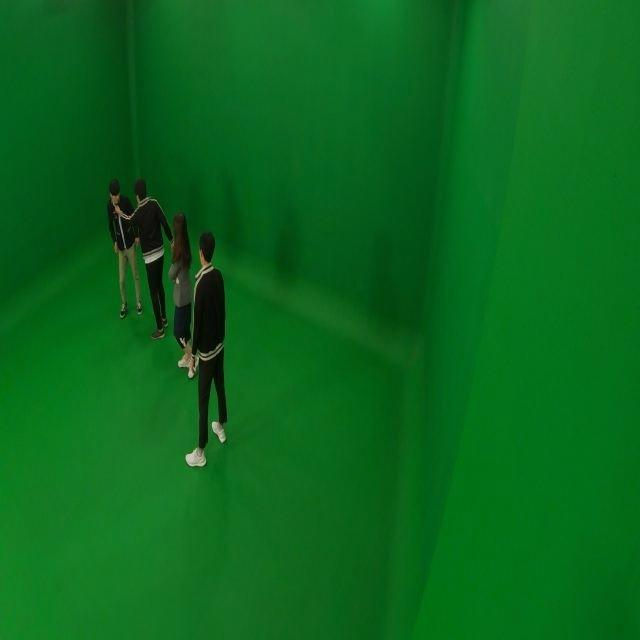fight: (106, 176, 170, 338)
non-fight: (183, 230, 230, 470), (166, 212, 195, 370)
